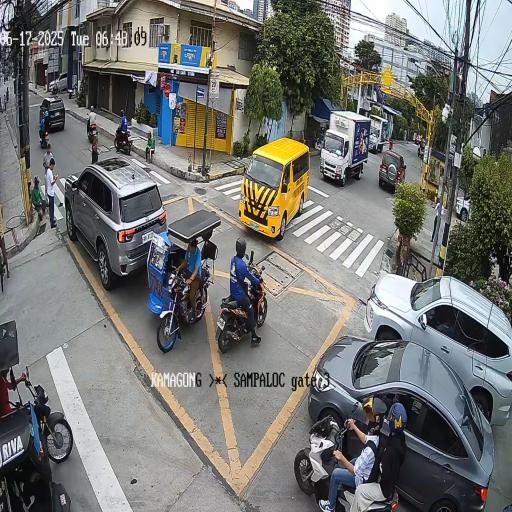Car: (311, 310, 496, 504), (344, 230, 508, 432), (58, 162, 178, 291), (232, 110, 327, 224), (320, 102, 372, 186), (374, 144, 410, 196), (40, 88, 68, 137)
Motor: (290, 408, 418, 512), (222, 241, 282, 369), (107, 110, 138, 162), (75, 99, 101, 140)
